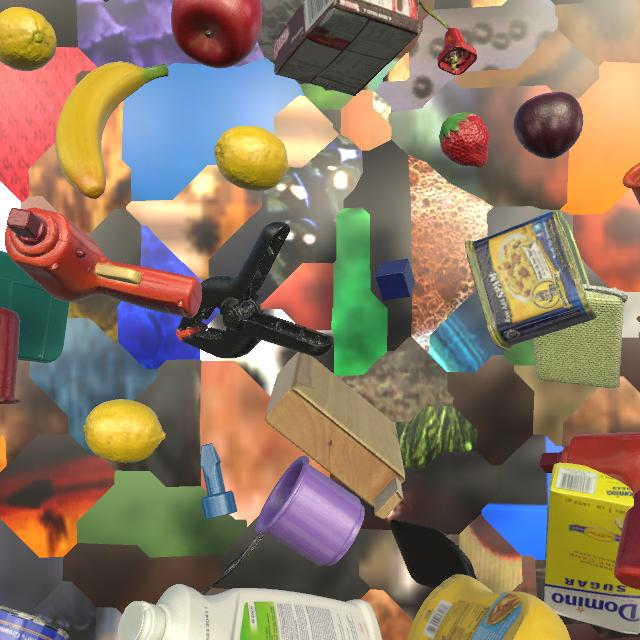ycb_002_master_chef_can: (0, 605, 69, 640)
ycb_004_sugar_box: (544, 463, 640, 635)
ycb_006_mustard_bottle: (407, 574, 571, 640)
ycb_008_pudding_box: (272, 0, 421, 96)
ycb_010_potted_meat_can: (465, 210, 597, 351)
ycb_011_banana: (55, 62, 169, 199)
ycb_012_strawberry: (439, 112, 490, 168)
ycb_013_apple: (171, 0, 262, 68)
ycb_014_lemon: (83, 399, 166, 463), (214, 126, 290, 191), (0, 7, 57, 71)
ycb_018_plum: (513, 92, 583, 159)
